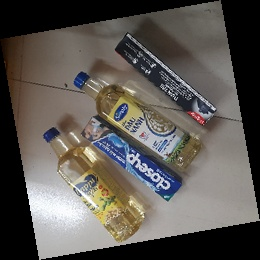CloseUp Tuyet: (81, 115, 183, 201)
Colgate Than: (114, 32, 217, 127)
Happy Soya: (42, 127, 145, 242)
Simply: (72, 71, 202, 173)
